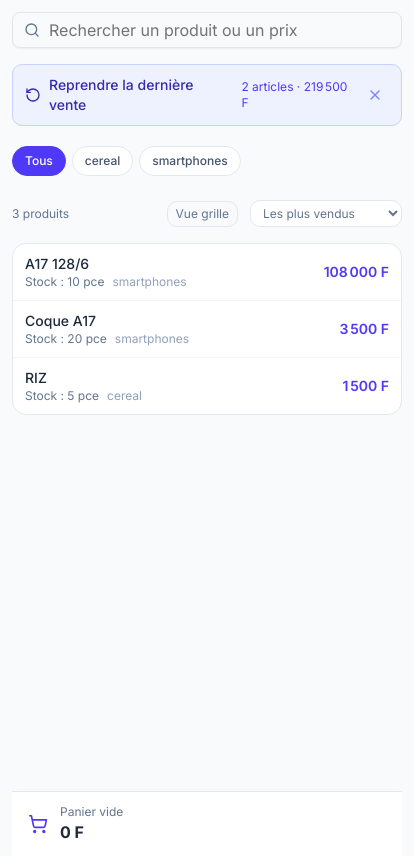
Test: POS — reprendre la dernière vente › cliquer ajoute les articles au panier
Click the button "Reprendre la dernière vente 2 articles · 219 500 F".
click(191, 95)  # box [25,73,357,117]
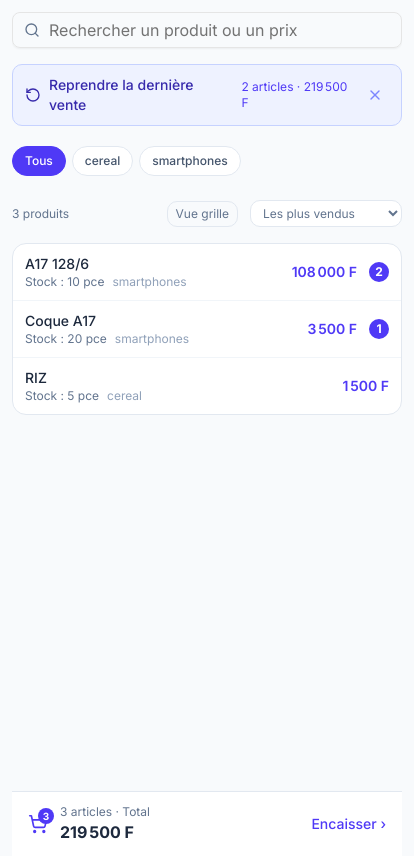
Result: the button with aria-label "3 articles, total" is shown at [12,791,402,855]
